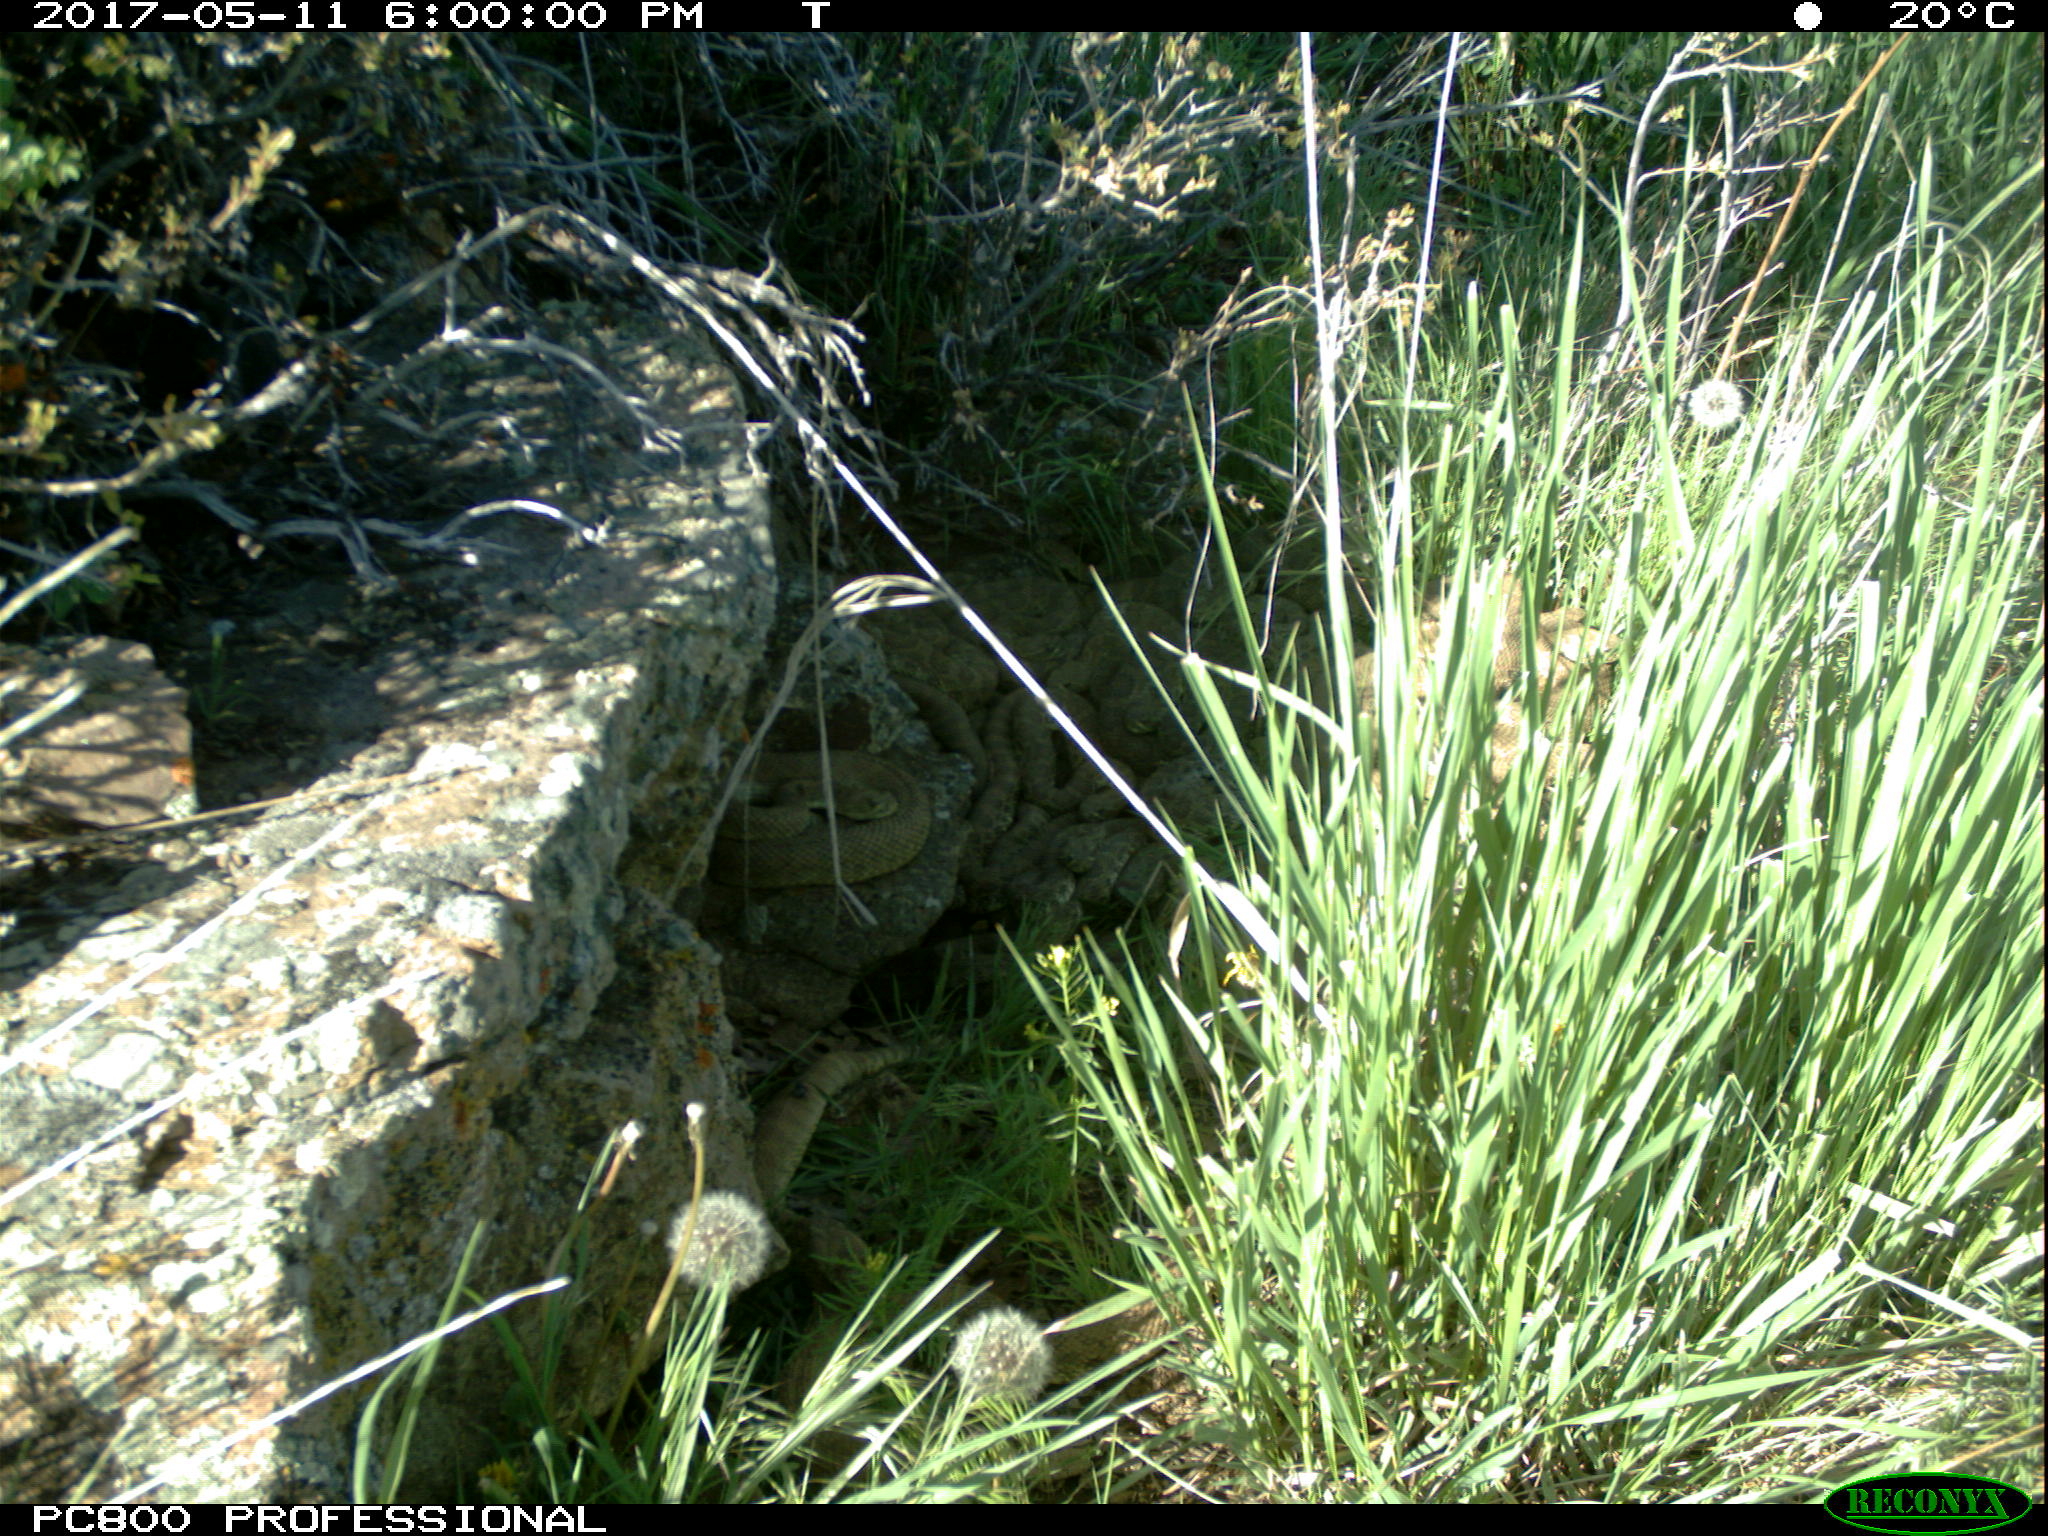snake: (1345, 566, 1622, 786), (937, 570, 1319, 702), (955, 686, 1150, 915), (713, 749, 935, 887), (748, 1042, 914, 1205), (1005, 1278, 1200, 1384)
